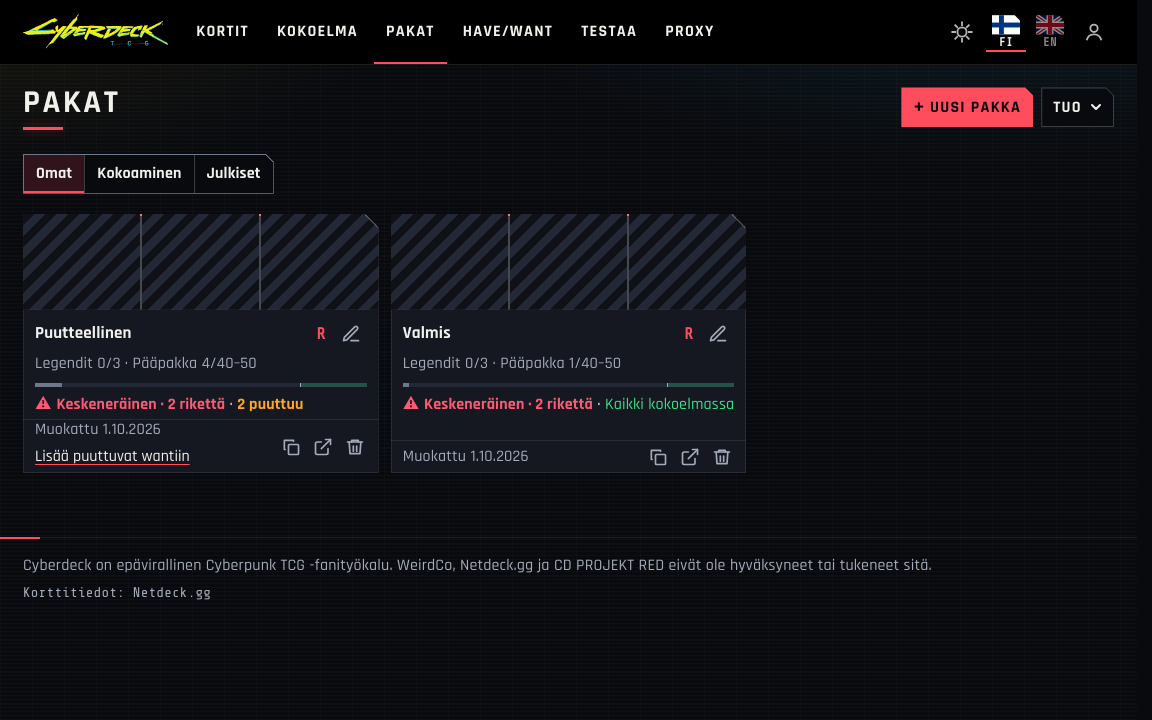
Test: Add missing to wants in the deck list (T-066) › has a button per deck with the deck name, only for decks with missing cards
Click the button with aria-label "Lisää puuttuvat wantiin: Puutteellinen" at (112, 457), box [35,441,190,473]
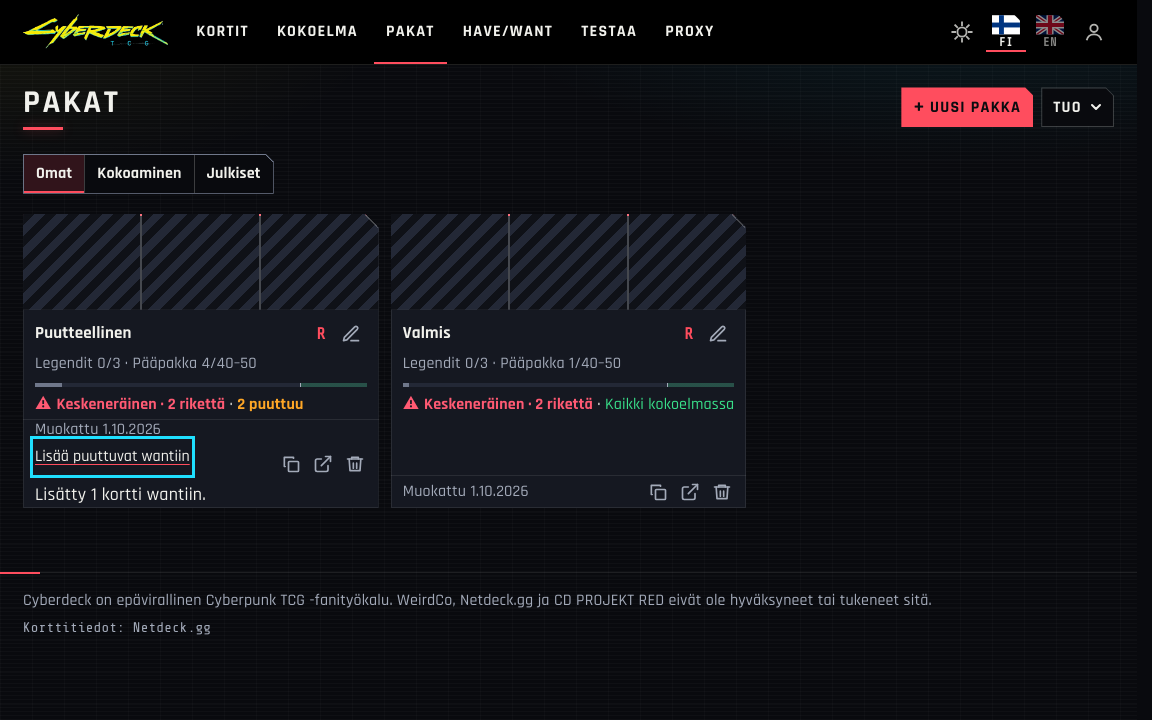
Expected: the text "Lisätty 1 kortti wantiin." is shown, [35,481,206,508]
